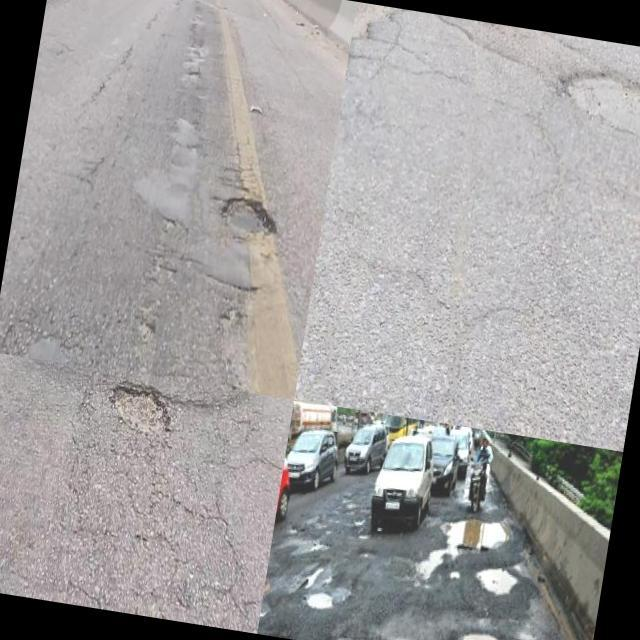Pothole: (554, 68, 640, 142), (112, 383, 170, 434), (219, 196, 279, 236), (475, 568, 518, 597)
